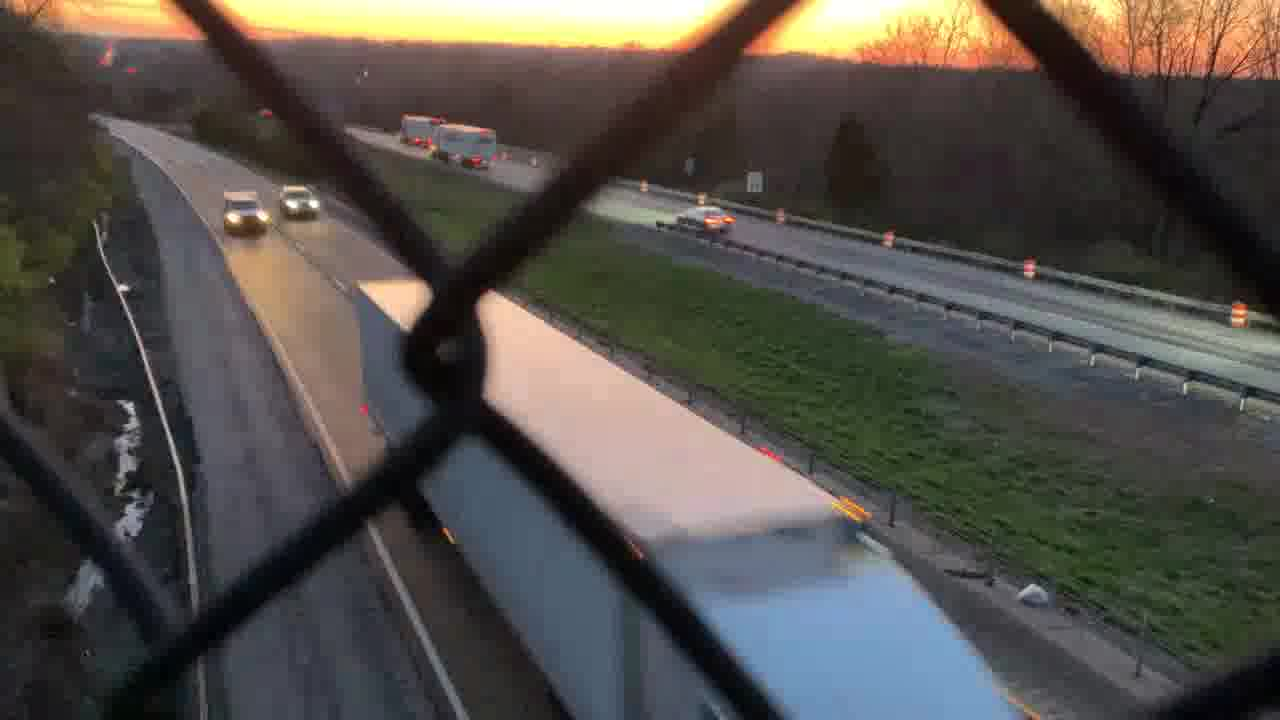heavyTruck: (349, 275, 1034, 720), (429, 125, 509, 168), (391, 113, 432, 148)
smallCar: (677, 205, 739, 237)
